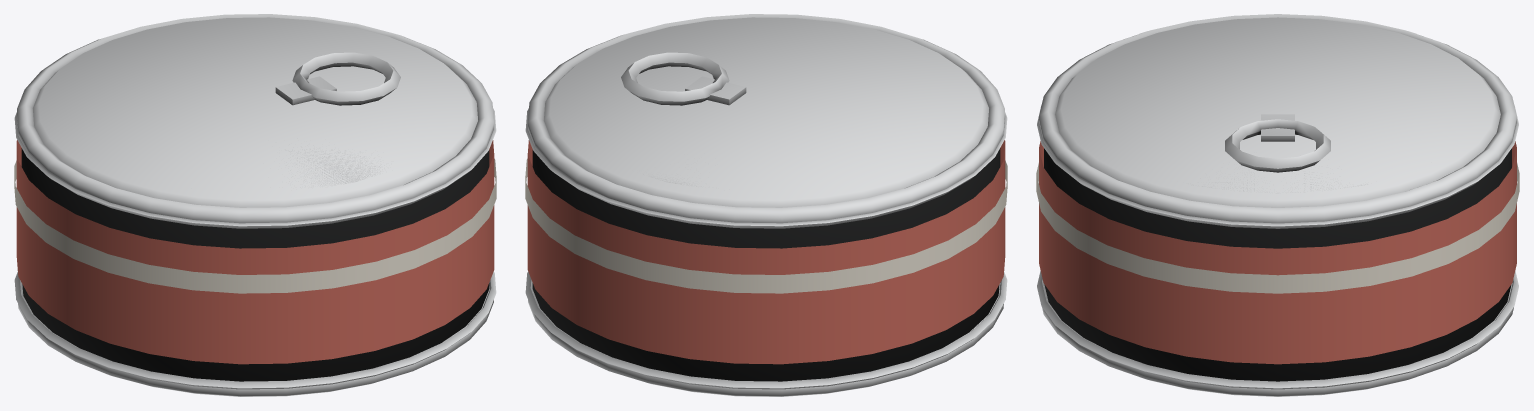
File: nd_tin_tuna.glb
3 renders of one model, left to right at view 1: azimuth 30°, elevation 25°; view 2: azimuth 150°, elevation 25°; view 3: azimuth 270°, elevation 25°, orthographic.
Parts seen in each view (by area): view 1: PART; view 2: PART; view 3: PART.
Part boxes in pixels (box(x1,y1,x2,y2)): PART: box(14, 14, 496, 396); PART: box(525, 14, 1007, 396); PART: box(1036, 14, 1519, 396).
Size of the model in its own units: 0.1136 by 0.0538 by 0.1136.
